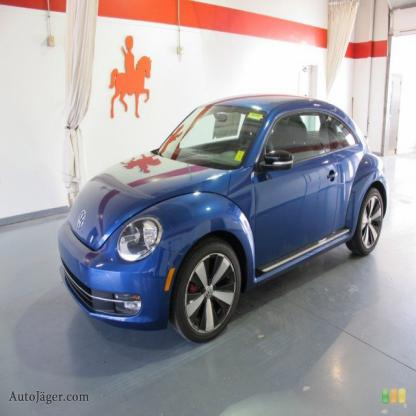Vehicle: (60, 96, 386, 343)
